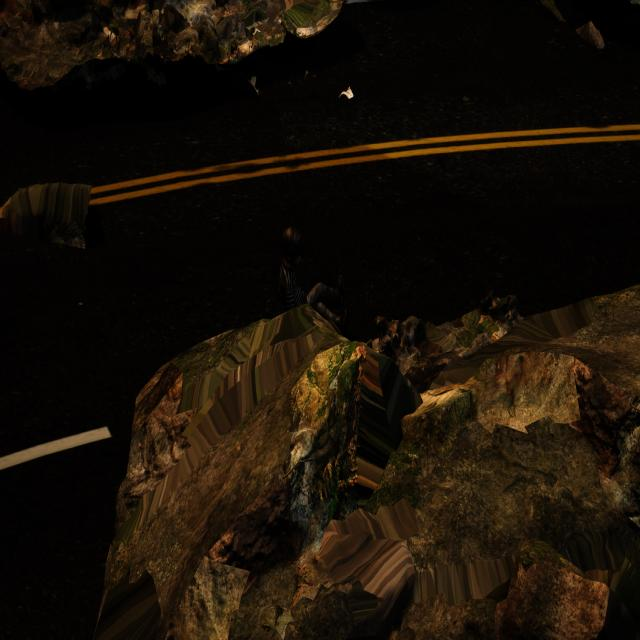Human: (270, 218, 352, 334)
